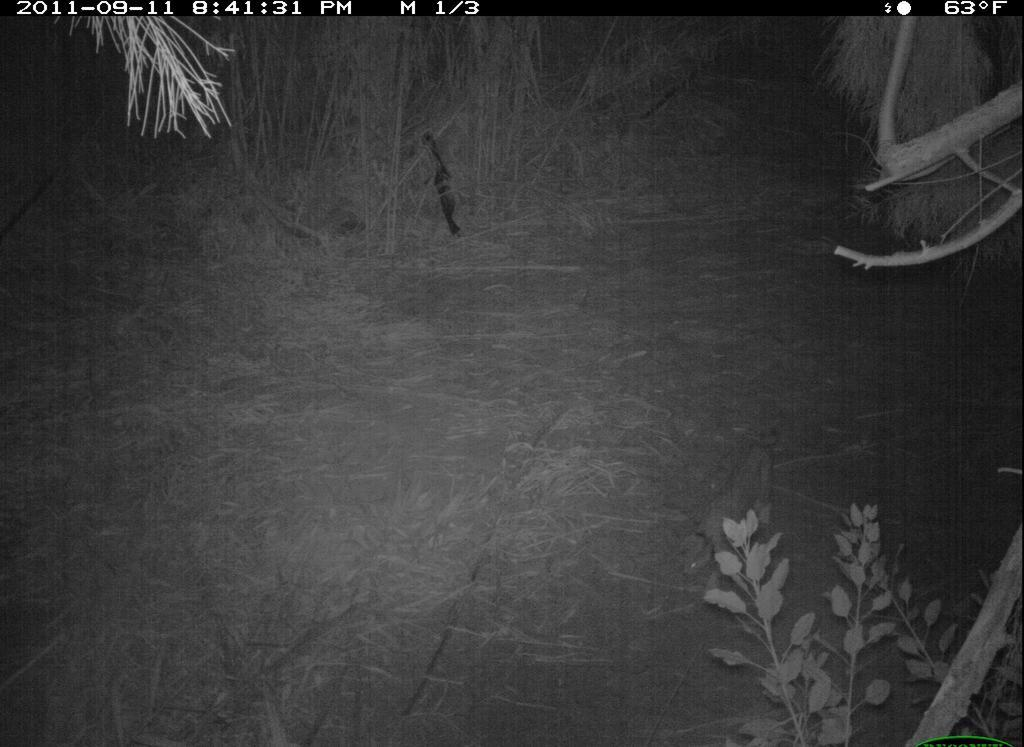bobcat: (675, 425, 784, 597)
